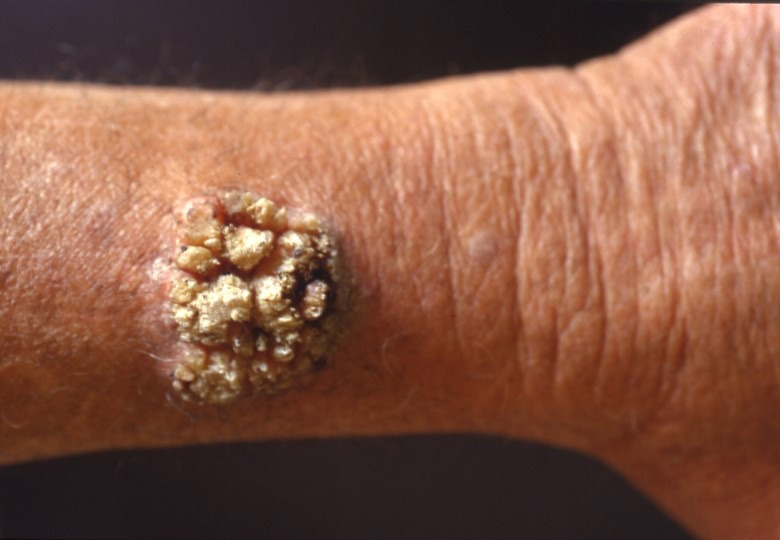Warts: (137, 171, 351, 421)
